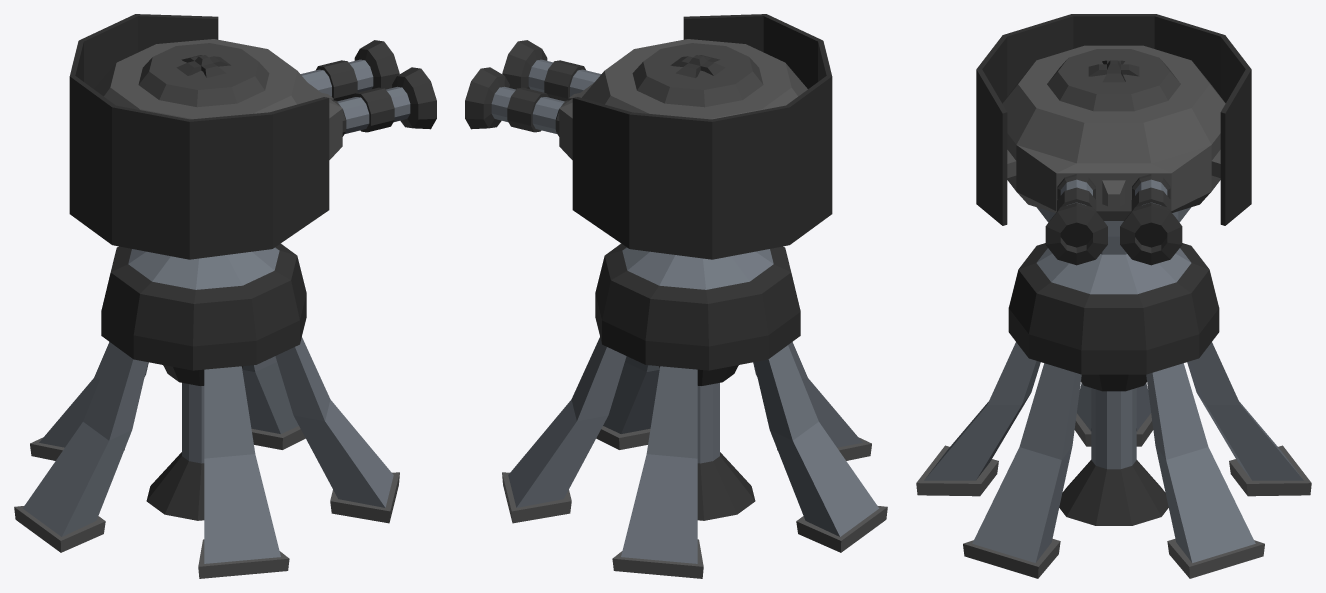
The model's file is Turret 3.fbx.
3 renders of one model, left to right at view 1: azimuth 30°, elevation 25°; view 2: azimuth 150°, elevation 25°; view 3: azimuth 270°, elevation 25°, orthographic.
Parts seen in each view (by area): view 1: Куб.004, Куб.005; view 2: Куб.004, Куб.005; view 3: Куб.004, Куб.005.
Boxes of the visible parts, <box> form: Куб.004: <box>14,243,399,578</box>; Куб.005: <box>69,14,436,259</box>; Куб.004: <box>502,243,887,578</box>; Куб.005: <box>465,14,832,259</box>; Куб.004: <box>916,207,1311,578</box>; Куб.005: <box>976,14,1251,265</box>.
Size of the model in its own units: 71.76 by 81.41 by 66.28.
